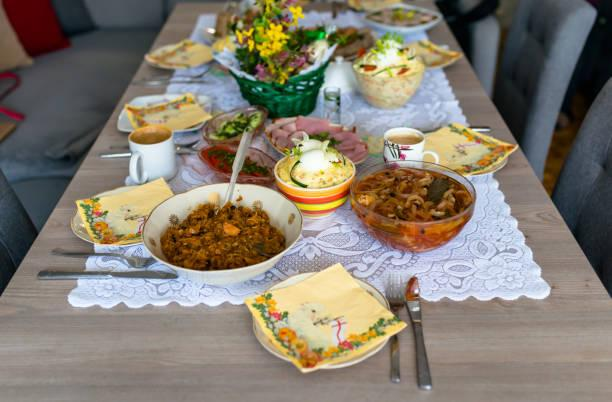Braised Crucian Carp: (141, 181, 298, 285), (349, 160, 479, 248)
